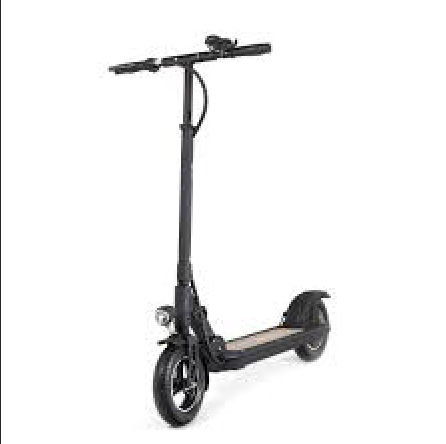scooter: (106, 32, 334, 429)
